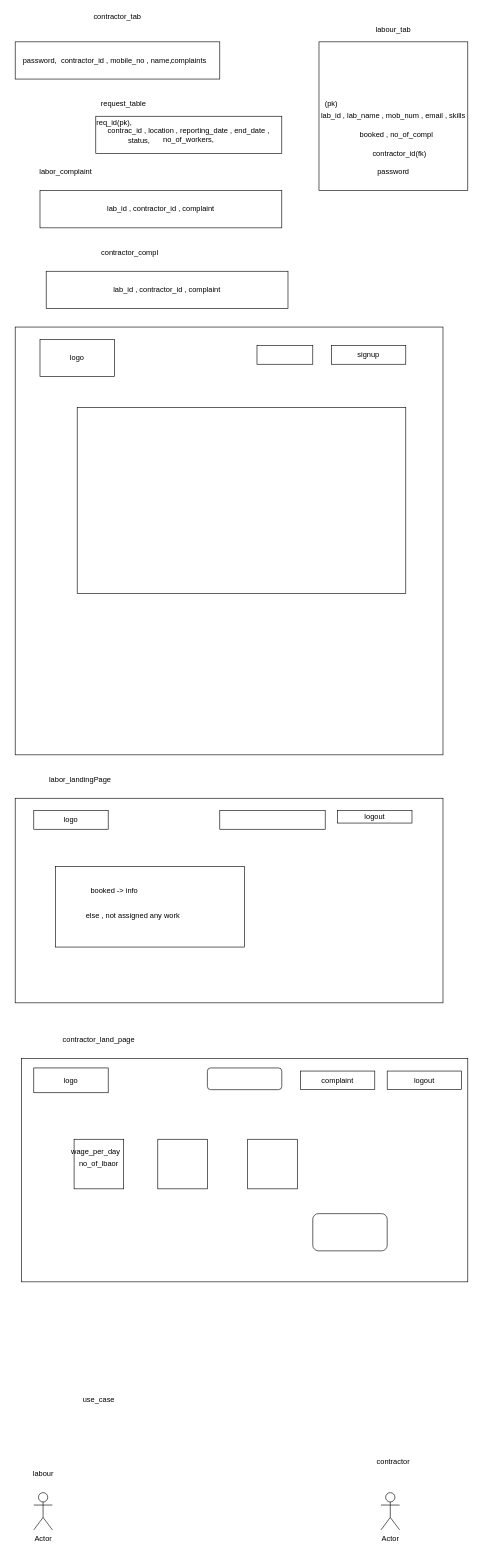
The diagram is 479 pixels wide and 1553 high, and some of its shapes have lost their labels. The shapes that lost their labels are listed below. From the top down, each one's centre as x and y in pixels, then its label:
At point (284, 354): "Login".
At point (241, 500): "website introduction".
At point (272, 819): "labour_complaint_form".
At point (244, 1078): "active_contract".
At point (349, 1232): "Request_labour".
